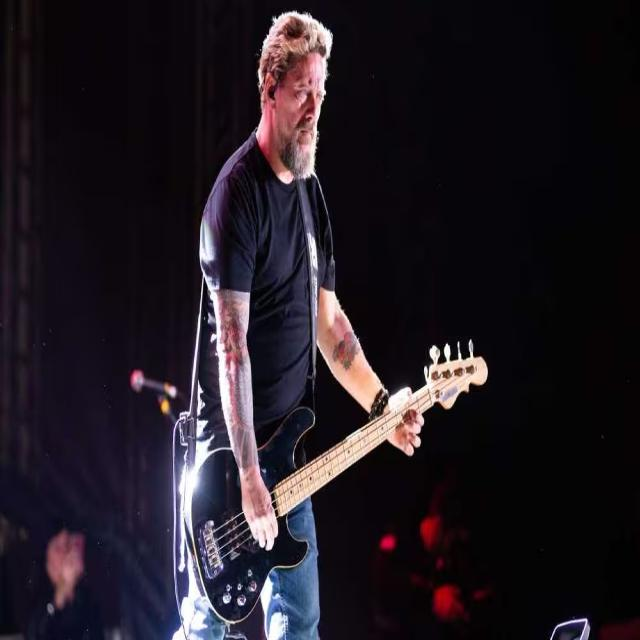bass: (178, 341, 481, 625)
